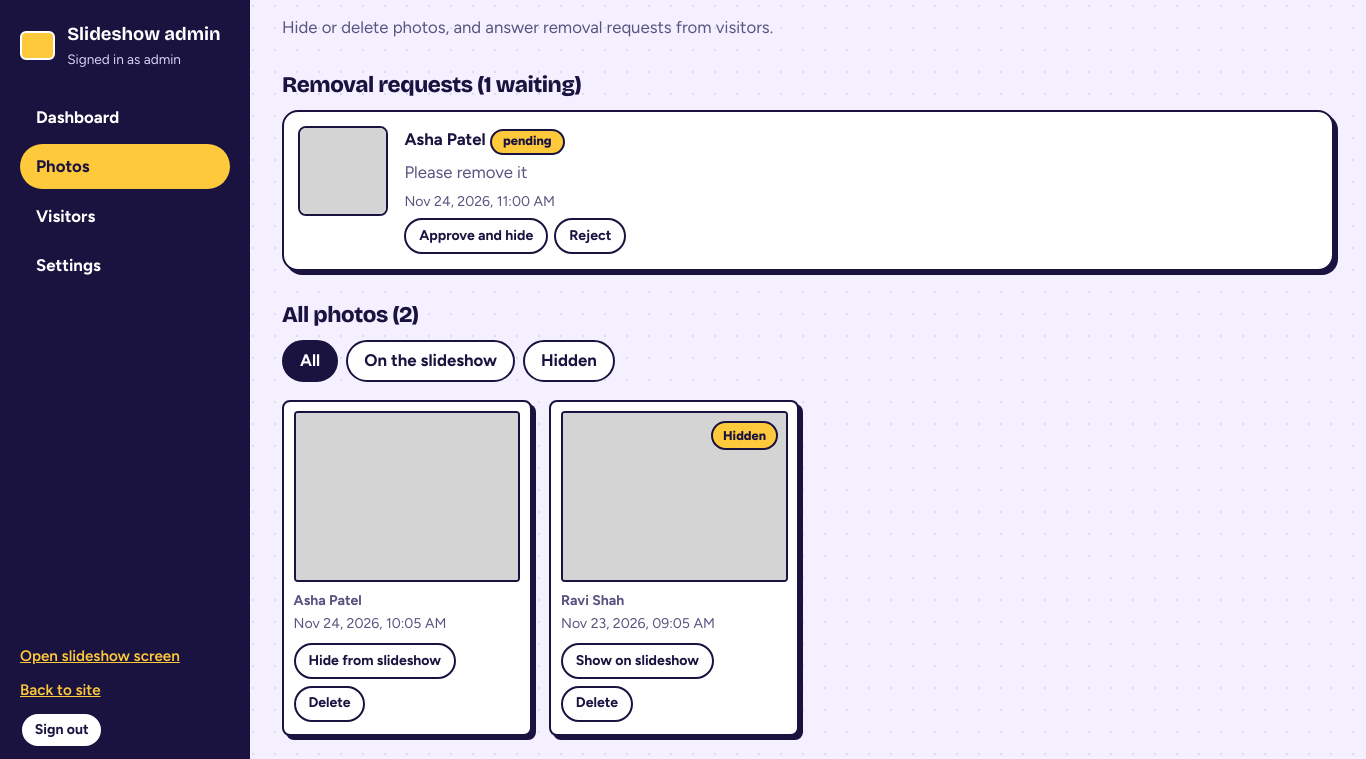
Test case: Admin photos and removal requests › deletes a photo after the admin confirms
(page scrolled)
Click the button with aria-label "Delete photo by Asha Patel". click: (330, 704)
box: [294,686,365,722]
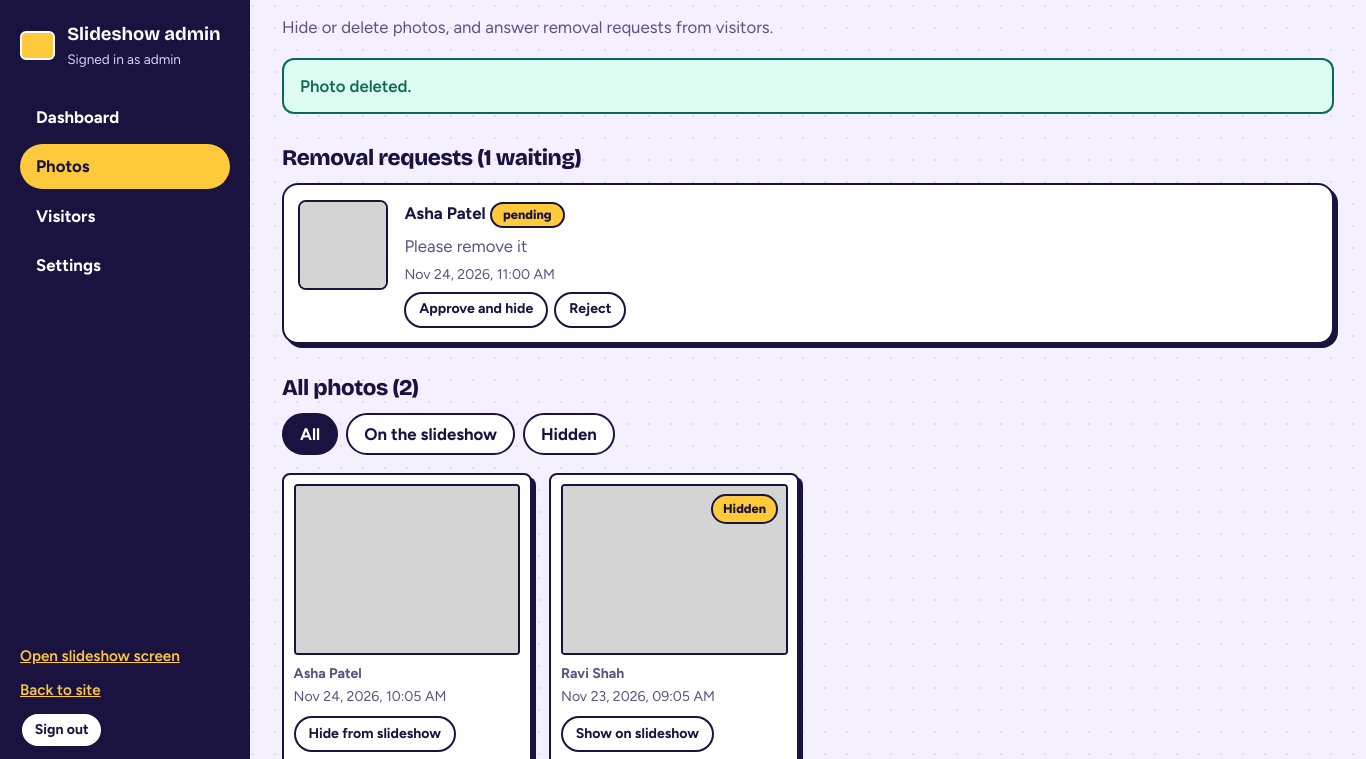
Check: the text "Photo deleted." is shown, box [282,58,1334,114]
